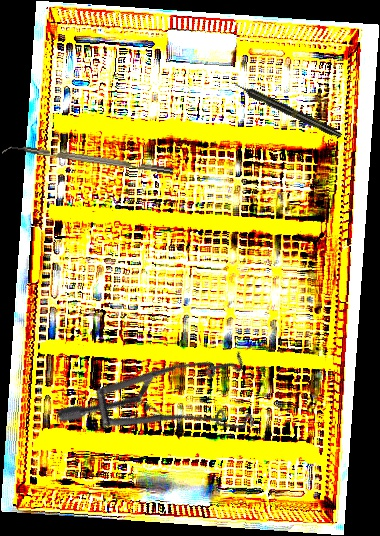Chopper: (1, 141, 174, 183)
Handpiece: (232, 79, 344, 141)
Speculum: (54, 305, 280, 516)
